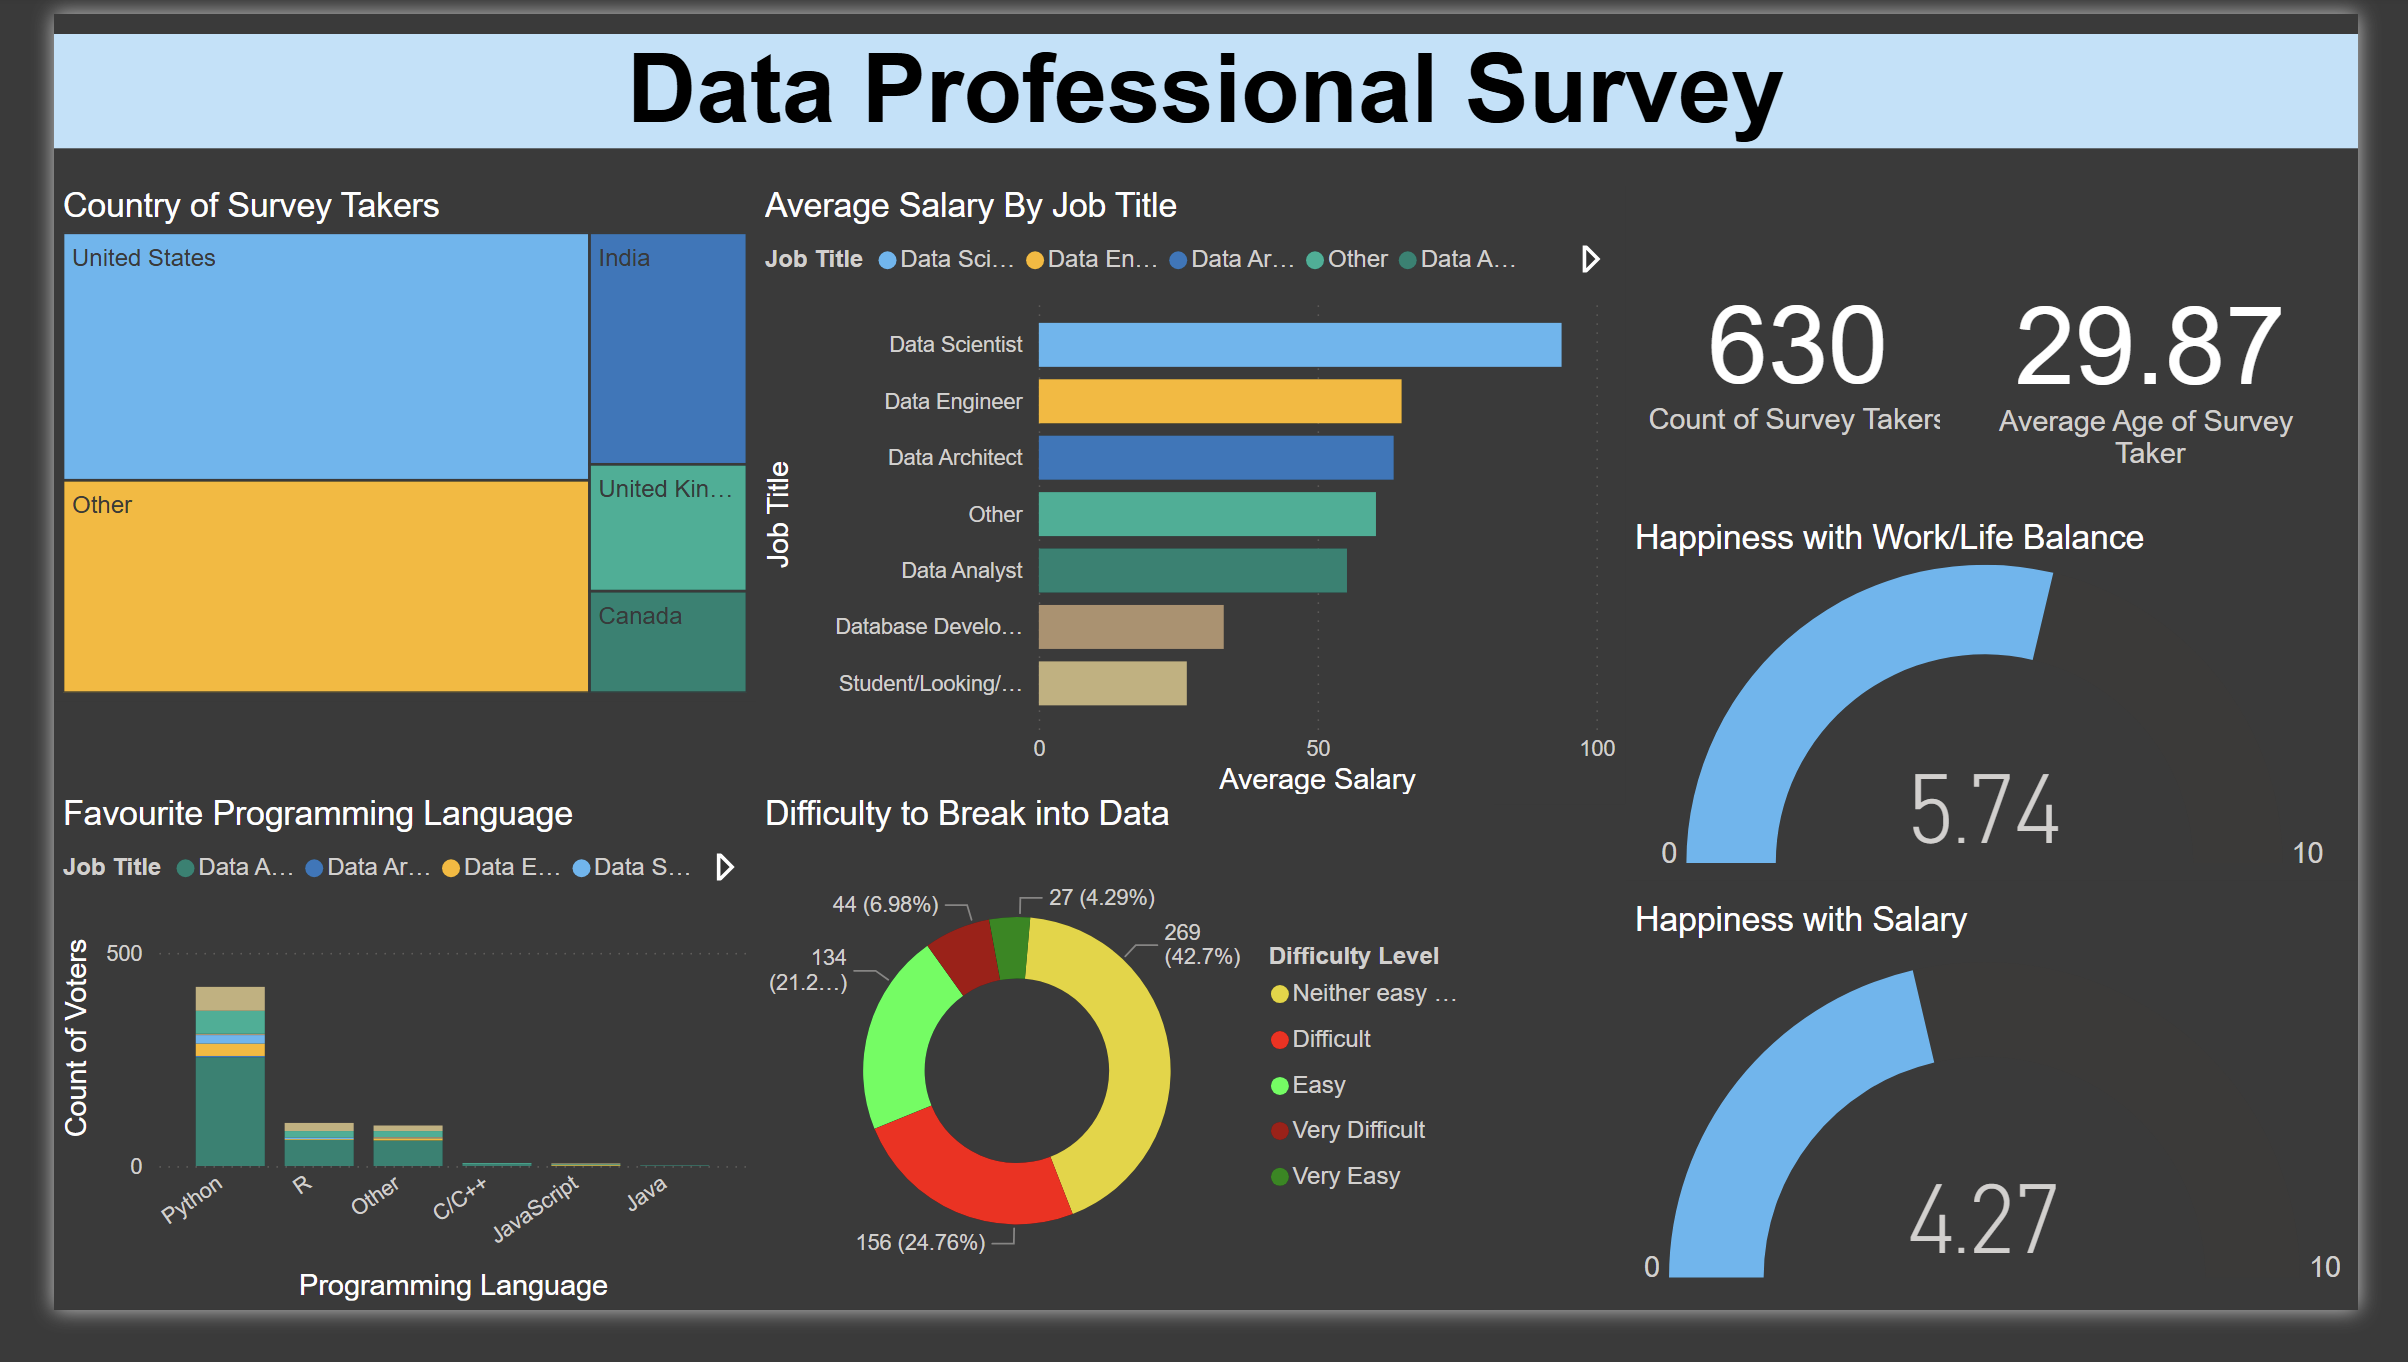

This screenshot's page, from the dashboard's own definition file:
{"tool":"powerbi","page":{"name":"Page 1","canvas":[1280,720],"ordinal":0},"visuals":[{"type":"textbox","title":"Data Professional Survey","box":[0,10.6,1280,63.7],"z":0},{"type":"card","fields":{"Values":["Count(Data Professional Survey.Unique ID)"]},"box":[872.8,95.5,191,184.4],"z":1},{"type":"card","fields":{"Values":["Avg(Data Professional Survey.Q10 - Current Age)"]},"box":[1047.9,95.5,233.5,185.7],"z":2},{"type":"barChart","title":"Average Salary By Job Title","fields":{"Category":["Data Professional Survey.Q1 - Which Title Best Fits your Current Role?.1"],"Y":["Avg(Data Professional Survey.Average Salary)"],"Series":["Data Professional Survey.Q1 - Which Title Best Fits your Current Role?.1"]},"box":[390,95.5,482.8,343.5],"z":3},{"type":"columnChart","title":"Favourite Programming Language","fields":{"Category":["Data Professional Survey.Q5 - Favorite Programming Language.1"],"Y":["CountNonNull(Data Professional Survey.Unique ID)"],"Series":["Data Professional Survey.Q1 - Which Title Best Fits your Current Role?.1"]},"box":[0,433.7,390,286.5],"z":4},{"type":"treemap","title":"Country of Survey Takers","fields":{"Group":["Data Professional Survey.Q11 - Which Country do you live in?.1"],"Values":["CountNonNull(Data Professional Survey.Q11 - Which Country do you live in?.1)"]},"box":[0,95.5,390,286.5],"z":5},{"type":"gauge","title":"Happiness with Salary","fields":{"Y":["Avg(Data Professional Survey.Q6 - How Happy are you in your Current Position with the following? (Salary))"],"MinValue":["Min(Data Professional Survey.Q6 - How Happy are you in your Current Position with the following? (Salary))"],"MaxValue":["Max(Data Professional Survey.Q6 - How Happy are you in your Current Position with the following? (Salary))"]},"box":[872.8,492.1,407.2,228.1],"z":6},{"type":"gauge","title":"Happiness with Work/Life Balance","fields":{"Y":["Avg(Data Professional Survey.Q6 - How Happy are you in your Current Position with the following? (Work/Life Balance))"],"MinValue":["Min(Data Professional Survey.Q6 - How Happy are you in your Current Position with the following? (Work/Life Balance))"],"MaxValue":["Max(Data Professional Survey.Q6 - How Happy are you in your Current Position with the following? (Work/Life Balance))1"]},"box":[872.8,279.9,407.2,201.6],"z":7},{"type":"donutChart","title":"Difficulty to Break into Data","fields":{"Y":["CountNonNull(Data Professional Survey.Q7 - How difficult was it for you to break into Data?)"],"Category":["Data Professional Survey.Q7 - How difficult was it for you to break into Data?"]},"box":[390,433.7,409.9,286.5],"z":8}]}

Visuals, with their boxes in screenshot pixels (x1, y1, x2, y2), scaled from the page's 1280x720 canvas onto the 2408x1362 screenshot:
"Data Professional Survey" textbox: rect(0, 20, 2407, 141)
card - Count(Data Professional Survey.Unique ID): rect(1642, 181, 2001, 529)
card - Avg(Data Professional Survey.Q10 - Current Age): rect(1971, 181, 2407, 532)
"Average Salary By Job Title" barChart: rect(734, 181, 1642, 830)
"Favourite Programming Language" columnChart: rect(0, 820, 734, 1361)
"Country of Survey Takers" treemap: rect(0, 181, 734, 723)
"Happiness with Salary" gauge: rect(1642, 931, 2407, 1361)
"Happiness with Work/Life Balance" gauge: rect(1642, 529, 2407, 911)
"Difficulty to Break into Data" donutChart: rect(734, 820, 1505, 1361)
